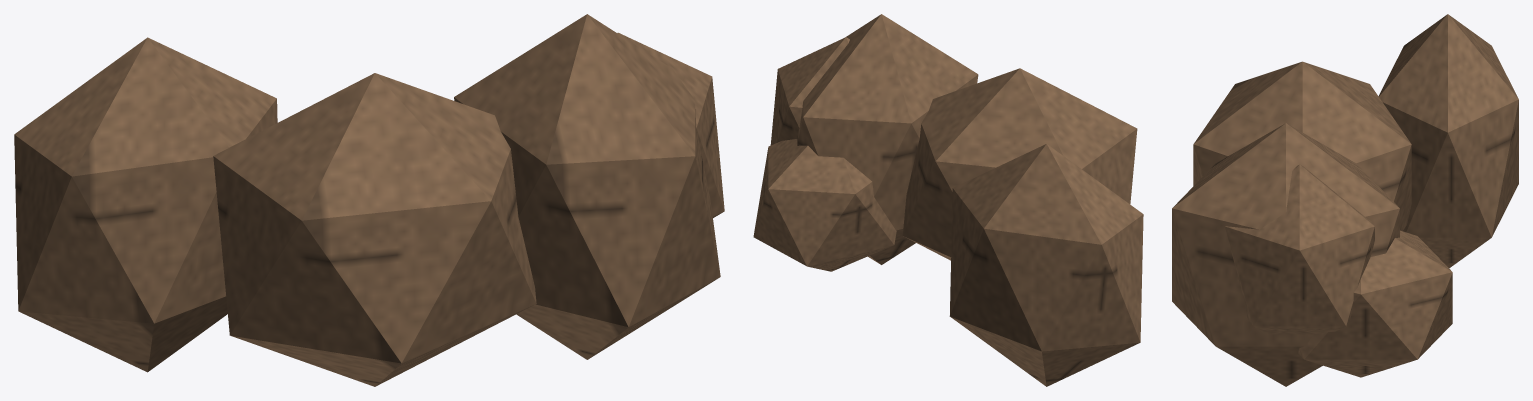
The model's file is rock.glb.
3 views of the same model, side by side, from view 1: azimuth 30°, elevation 25°; view 2: azimuth 150°, elevation 25°; view 3: azimuth 270°, elevation 25° (orthographic). The views are drawn at different scales.
Parts seen in each view (by area): view 1: rock_sand.012; view 2: rock_sand.012; view 3: rock_sand.012.
Part boxes in pixels (box(x1,y1,x2,y2)): rock_sand.012: box(14, 14, 724, 386); rock_sand.012: box(753, 14, 1143, 386); rock_sand.012: box(1172, 14, 1518, 386).
Size of the model in its own units: 4.44 by 2.52 by 2.93.
1 material, 1 textured.
